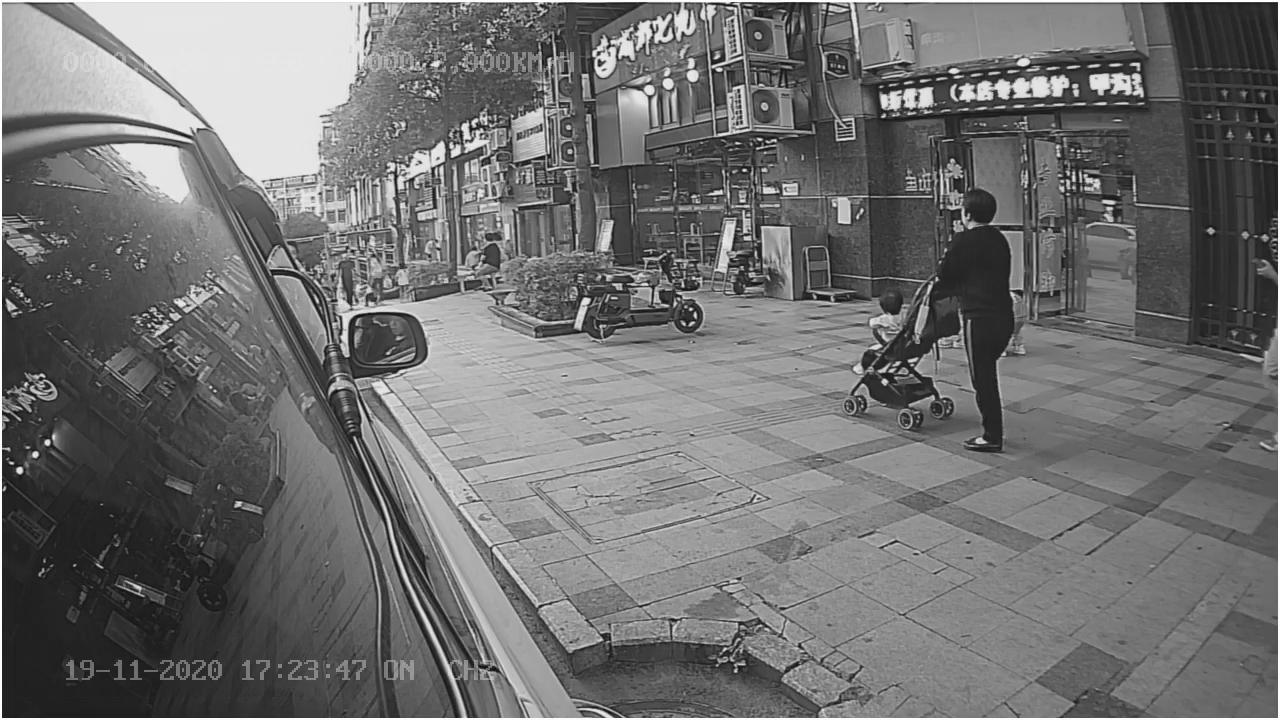person: (946, 189, 1023, 459)
